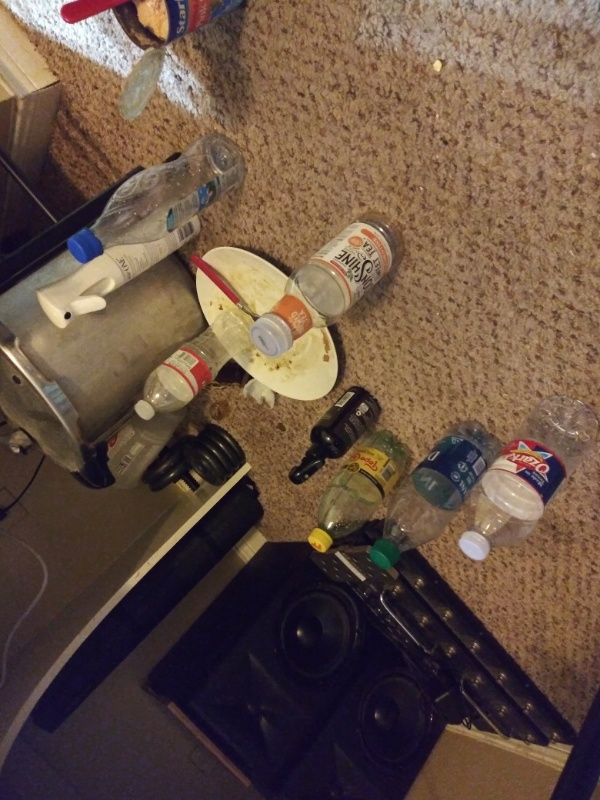bottle: (61, 131, 250, 268), (247, 211, 413, 364), (458, 391, 596, 563), (368, 416, 508, 571), (130, 306, 263, 427), (304, 429, 420, 561)
